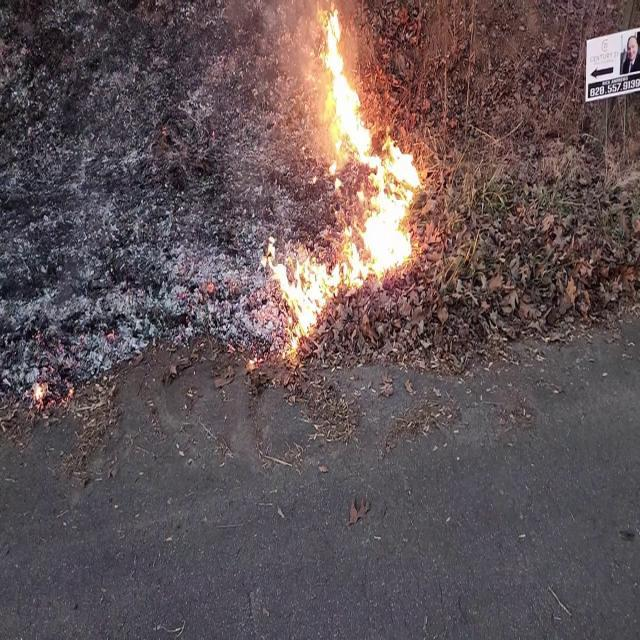Fire: (306, 2, 434, 300)
